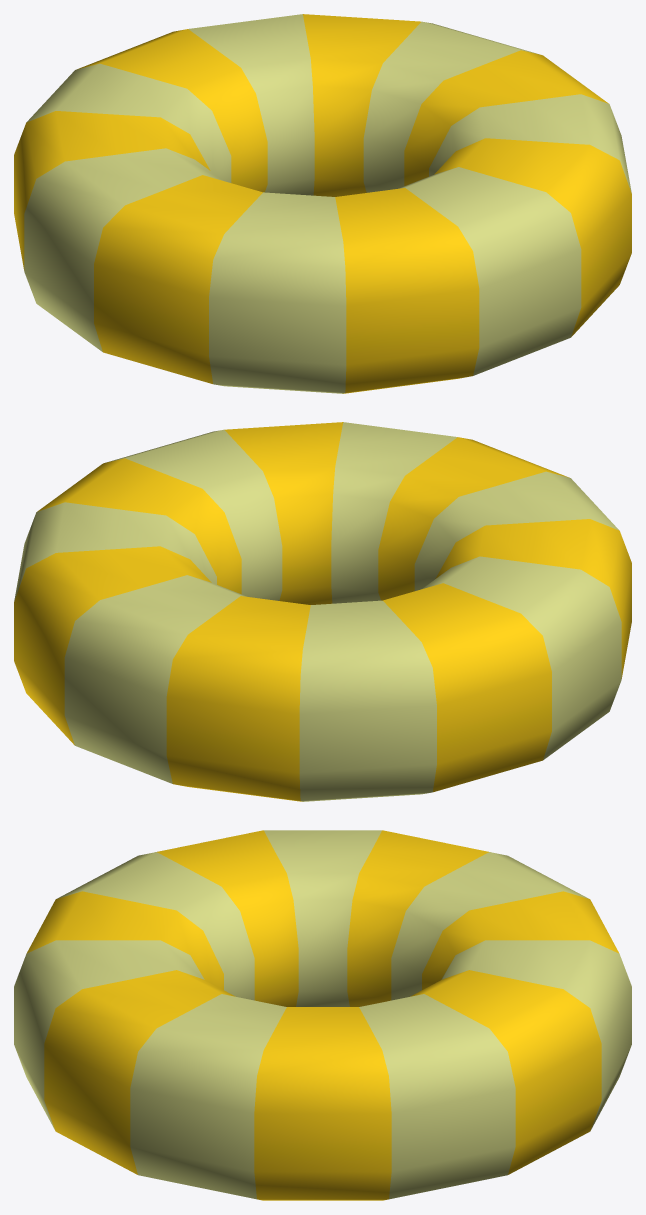
The model's file is candy_platform7.fbx.
3 renders of one model, top to bottom at view 1: azimuth 30°, elevation 25°; view 2: azimuth 150°, elevation 25°; view 3: azimuth 270°, elevation 25°, orthographic.
Parts seen in each view (by area): view 1: candy_platform7; view 2: candy_platform7; view 3: candy_platform7.
Part boxes in pixels (box(x1,y1,x2,y2)): candy_platform7: box(14, 14, 631, 393); candy_platform7: box(14, 422, 631, 801); candy_platform7: box(14, 830, 631, 1200).
Size of the model in its own units: 127 by 34.89 by 130.
1 material, 1 textured.
